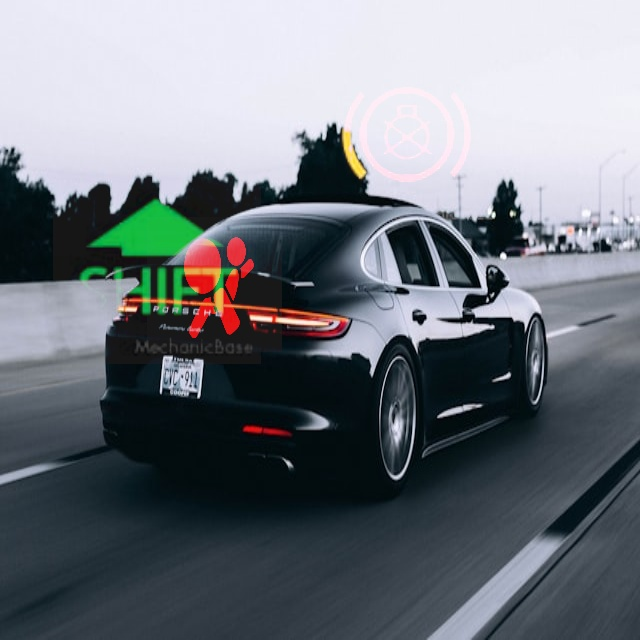symbol: (53, 156, 261, 364), (314, 43, 500, 229), (147, 217, 282, 352)
